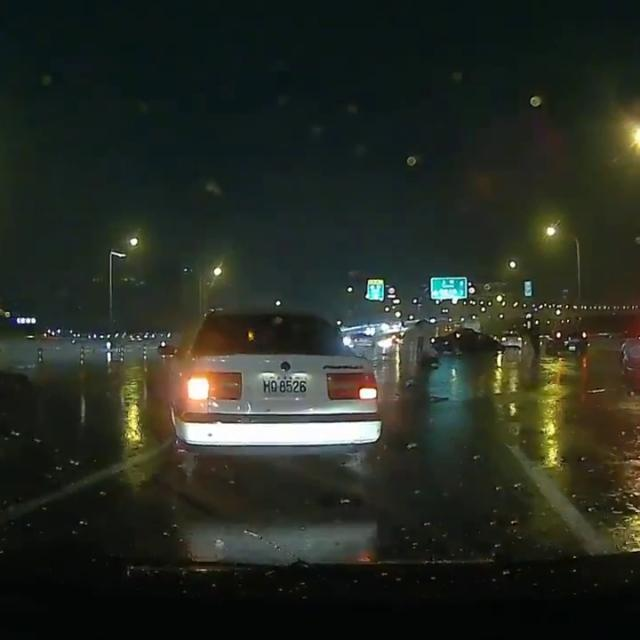Car: (160, 303, 382, 468), (498, 328, 525, 351)
